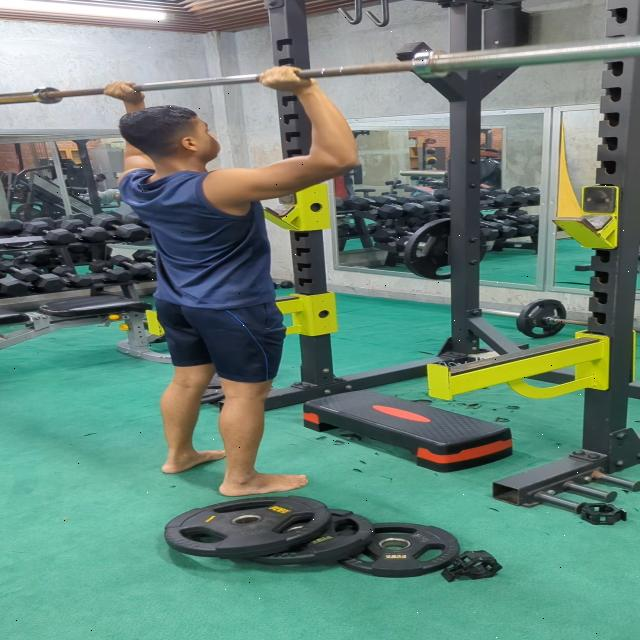Normal_OverheadPress: (89, 55, 370, 505)
